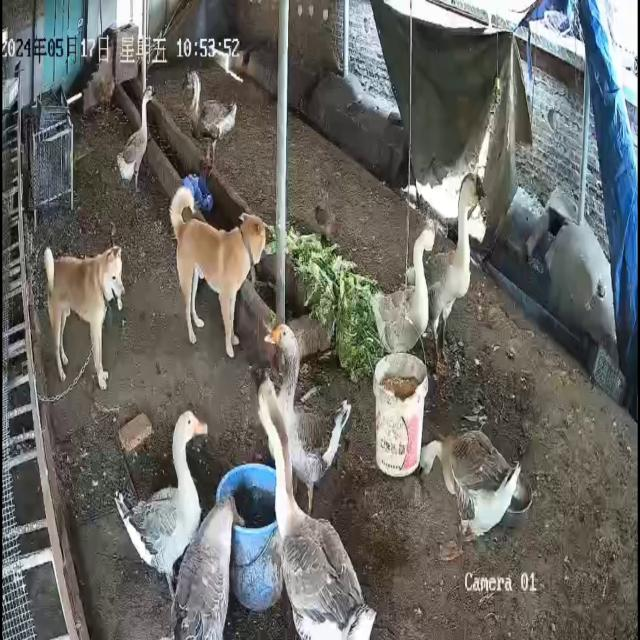dog: (170, 186, 267, 359), (44, 244, 126, 392)
